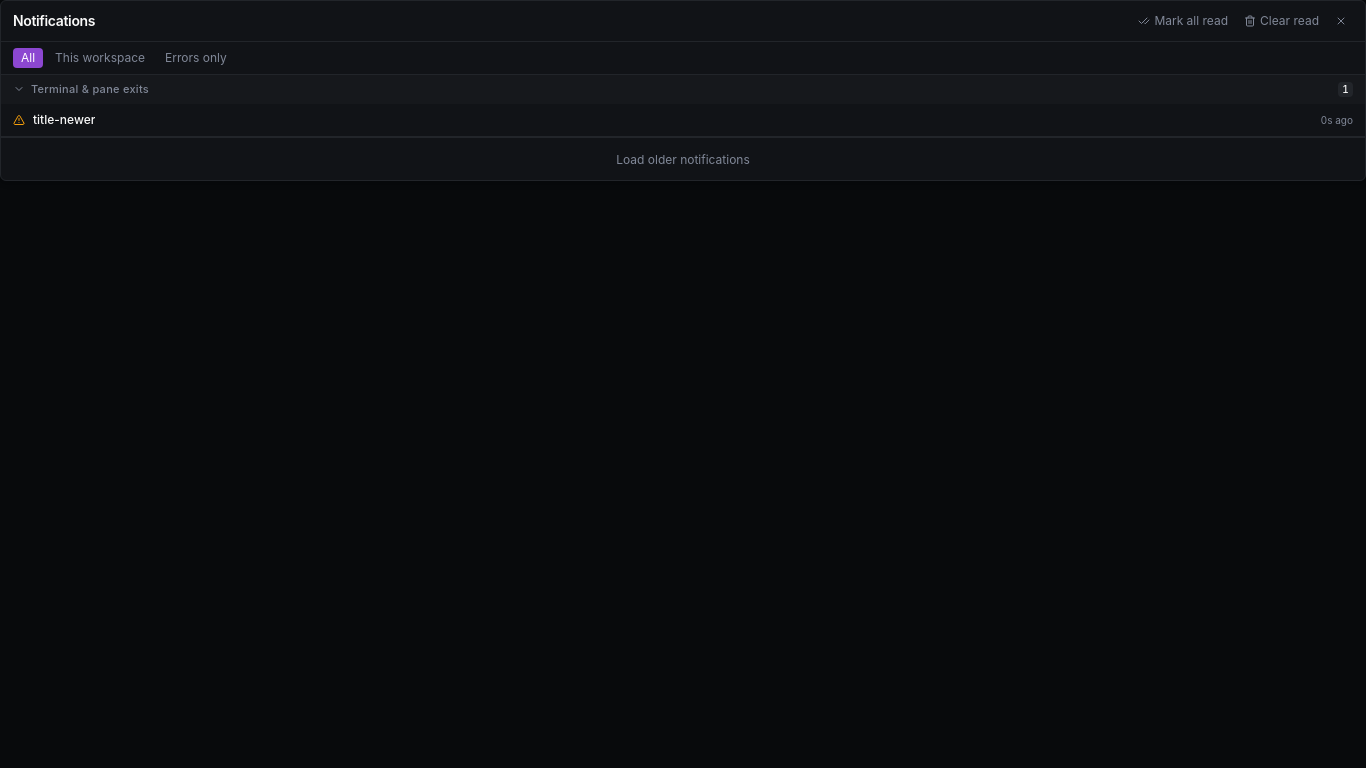
Scenario: NotificationDropdown › offers a retry control when loading an older page fails
Step 1. Click the button "Load older notifications" → (683, 160), box x1=608 y1=148 x2=758 y2=172
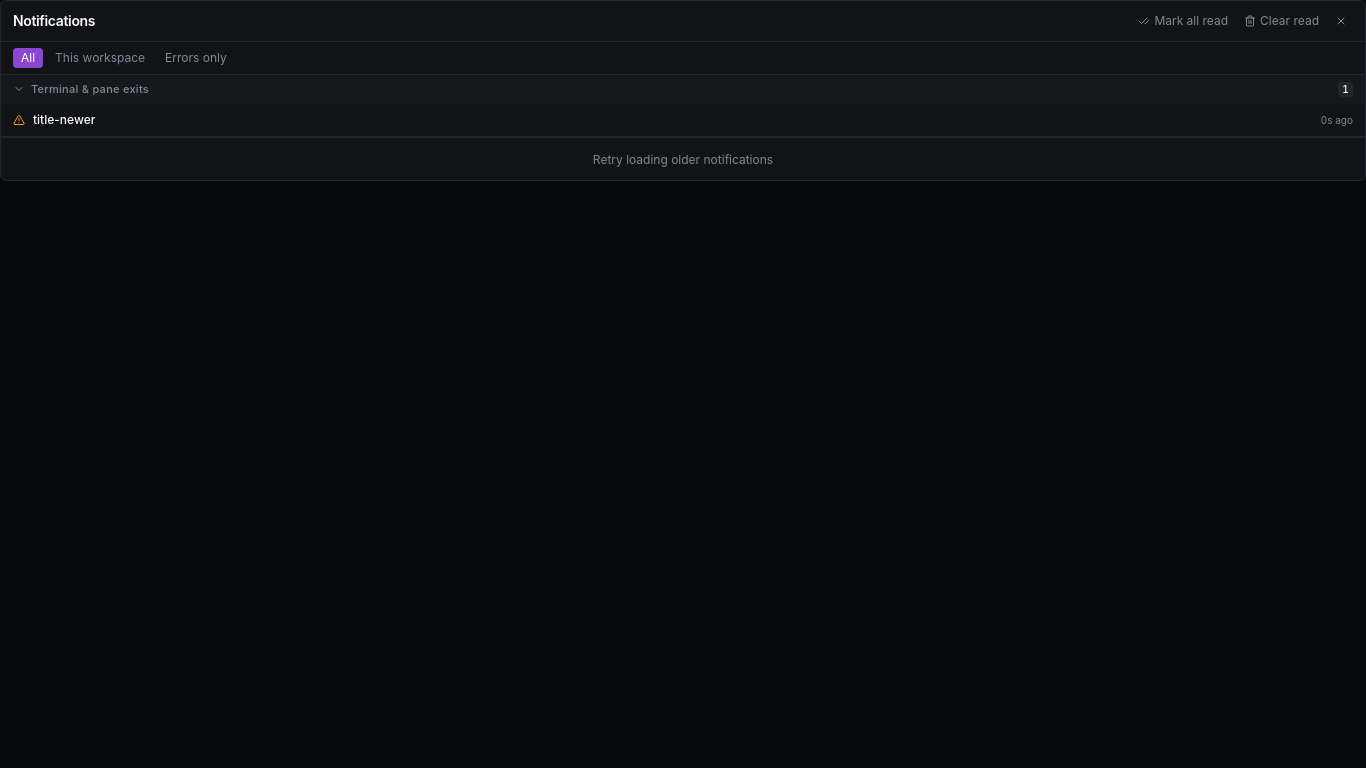
Expected: the button "Retry loading older notifications" is shown, x1=585 y1=148 x2=781 y2=172
